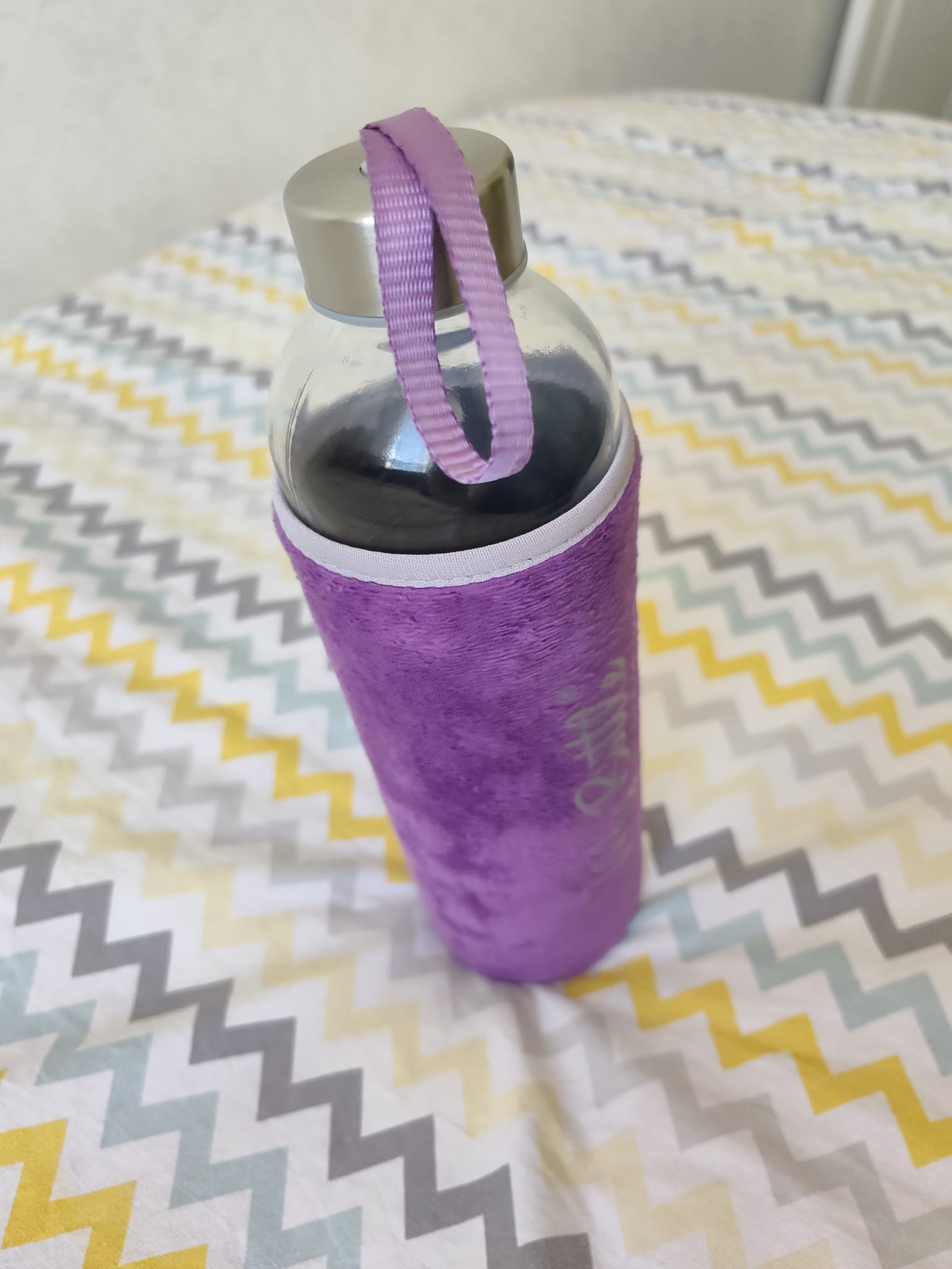su_sisesi: (249, 100, 683, 996)
